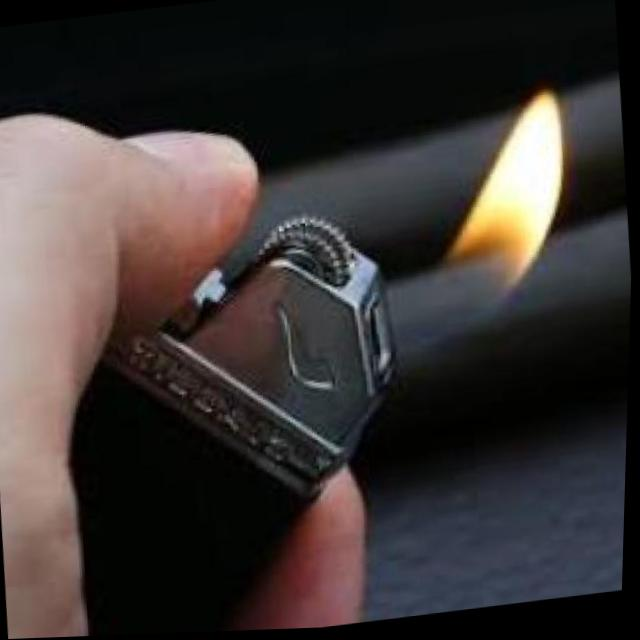Fire: (433, 93, 579, 313)
